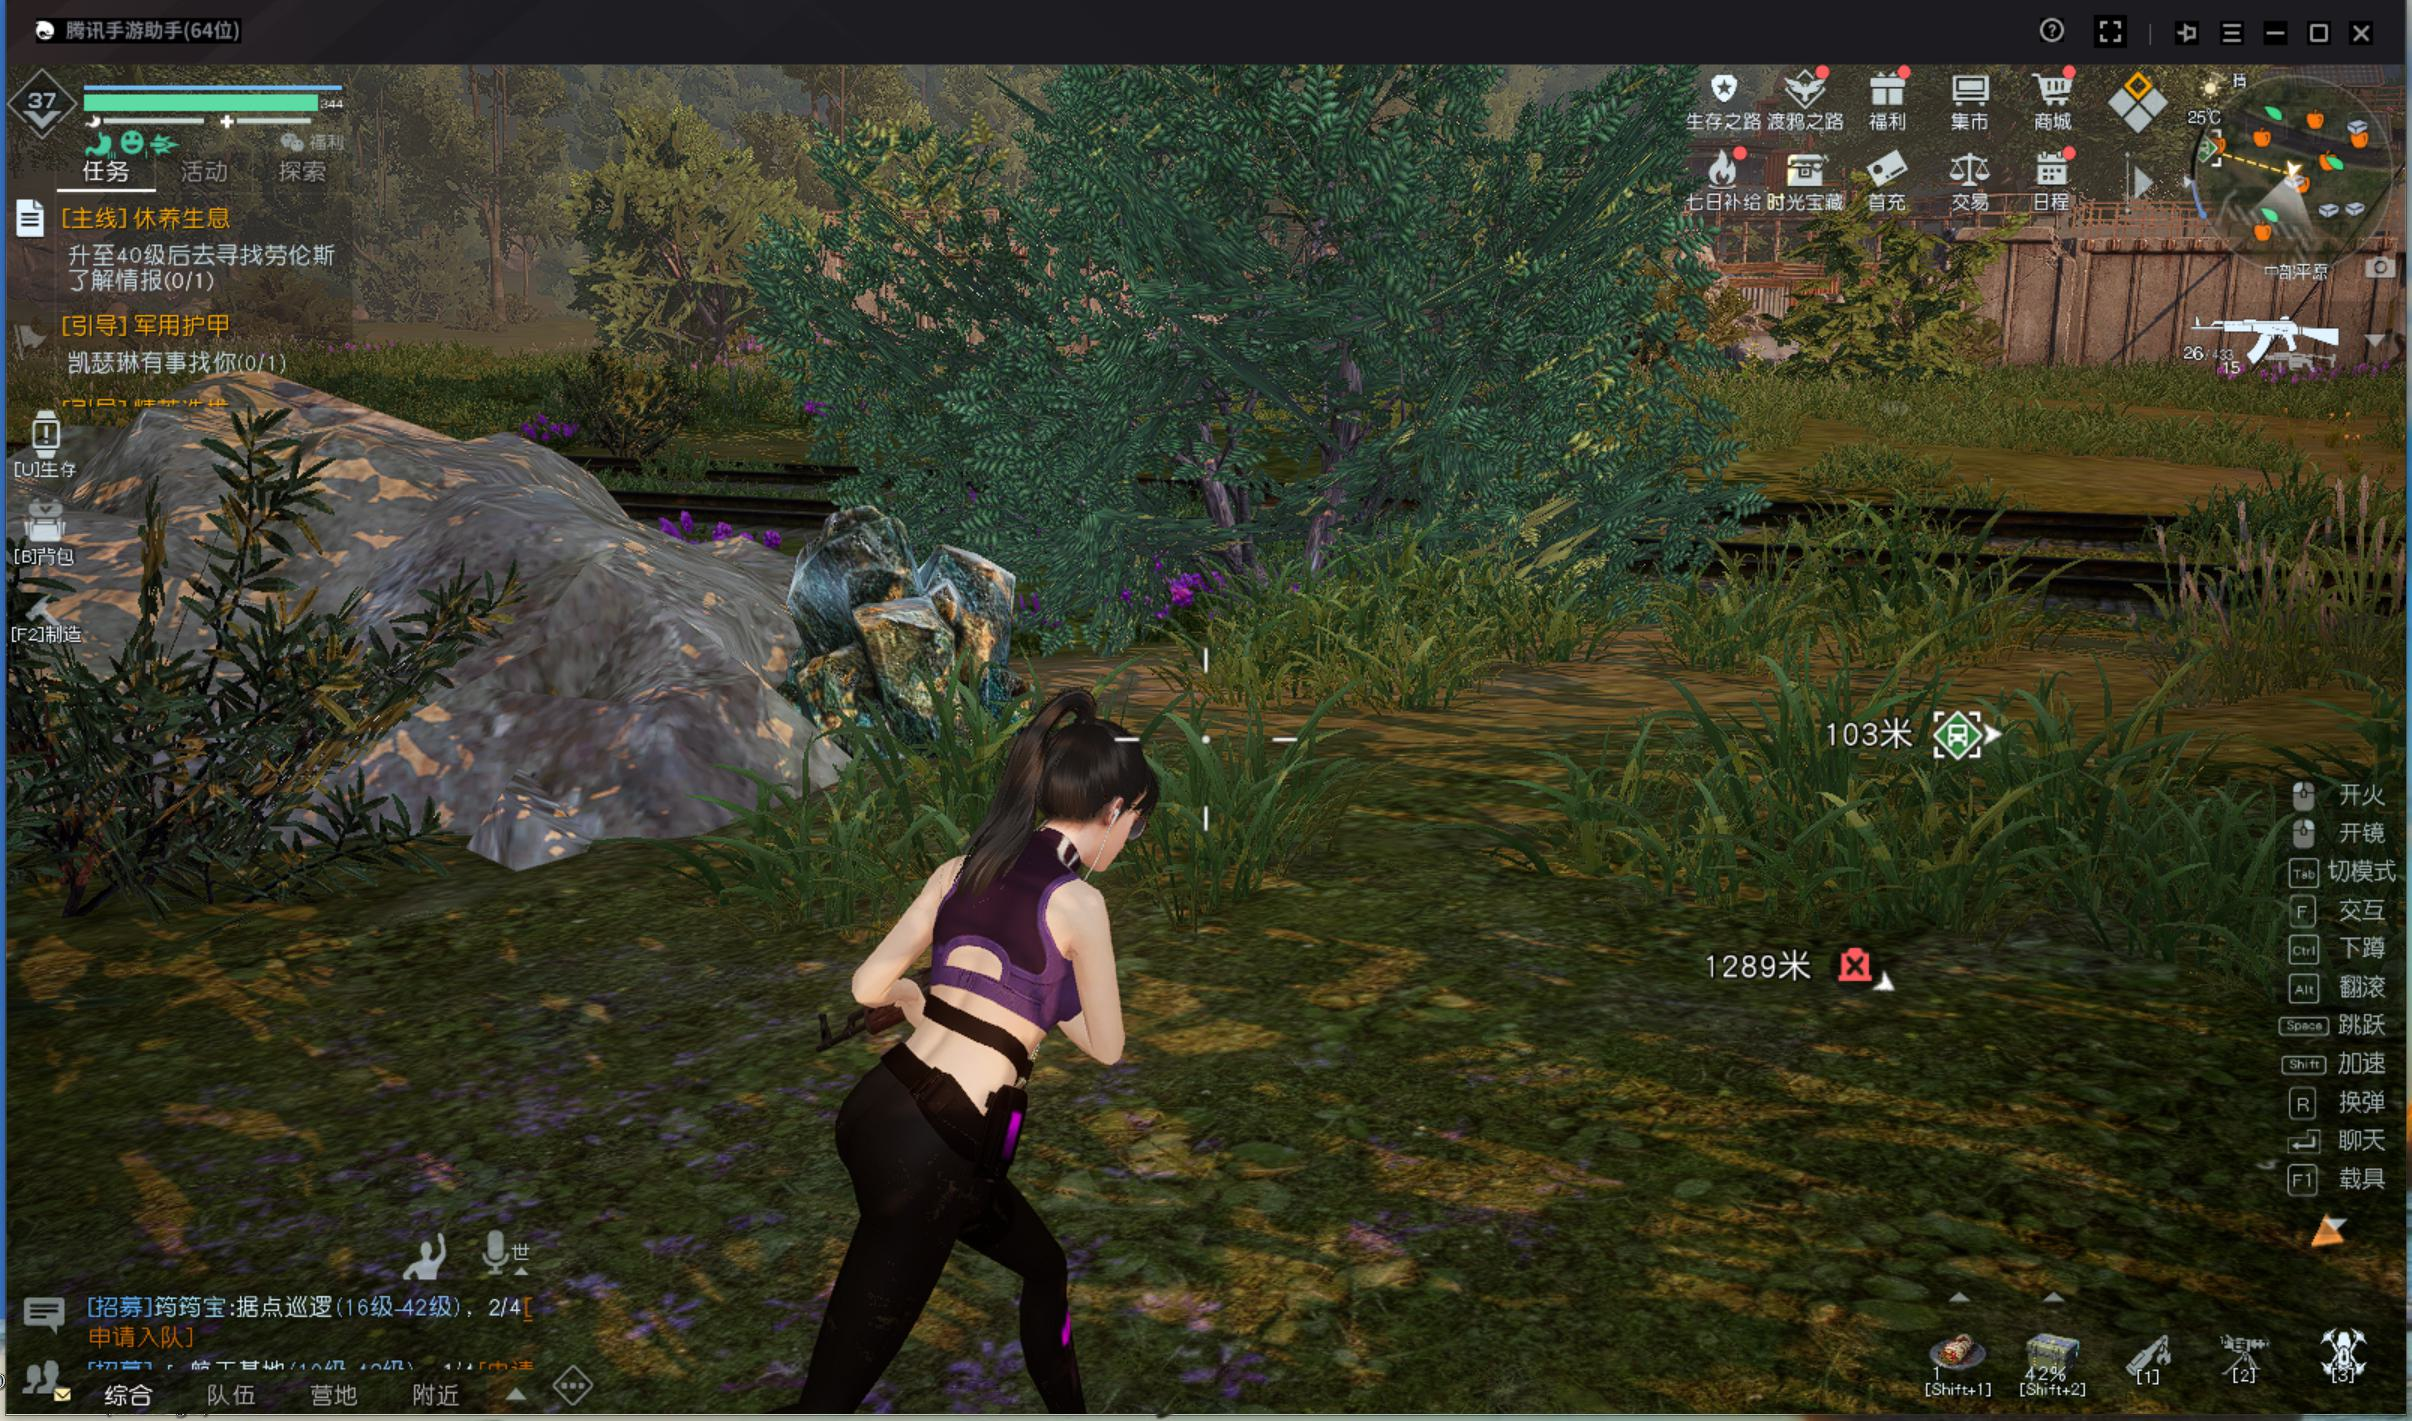stone: (712, 492, 1027, 761)
